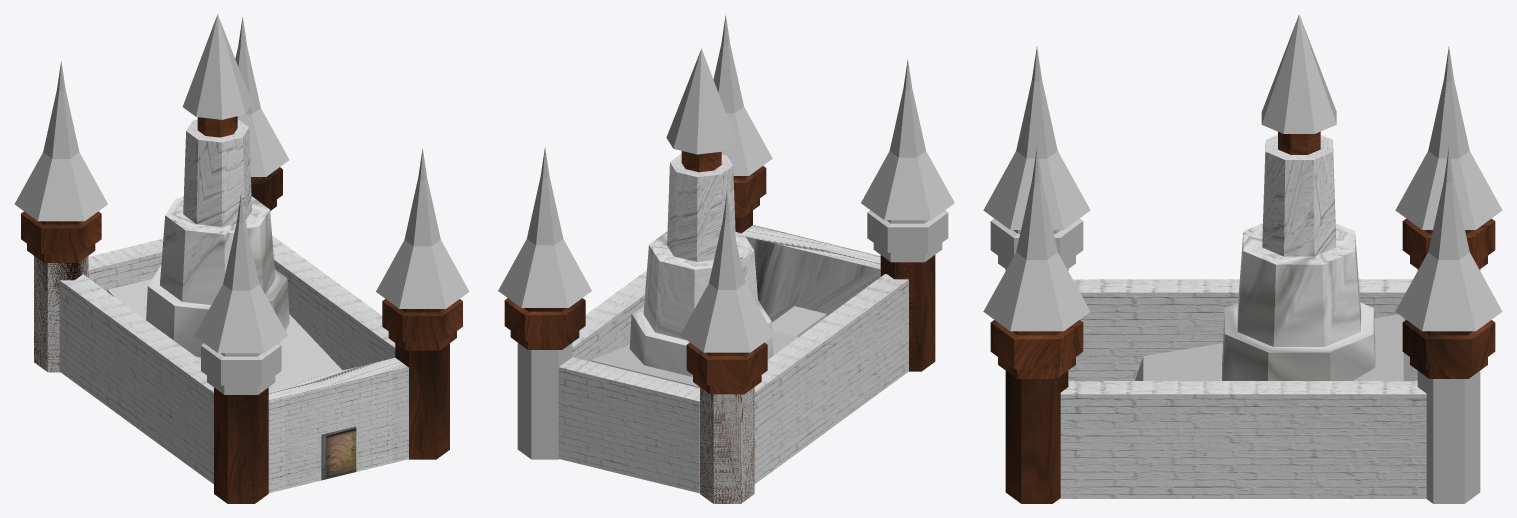
The model's file is ElfStronghold.fbx.
3 renders of one model, left to right at view 1: azimuth 30°, elevation 25°; view 2: azimuth 150°, elevation 25°; view 3: azimuth 270°, elevation 25°, orthographic. The views are drawn at different scales.
Parts seen in each view (by area): view 1: Cube.003, Cylinder.004, Cube, Cube.002, Cylinder.007, Cylinder.009, Cylinder.005, Cylinder, Cylinder.001, Cylinder.014, Cube.004, Cylinder.011 (+9 smaller); view 2: Cube.003, Cube.001, Cylinder.004, Cube, Cylinder.007, Cylinder.009, Cylinder.012, Cylinder.010, Cylinder.003, Cylinder.014, Cylinder.005, Cylinder (+9 smaller); view 3: Cube.002, Cylinder.004, Cube.003, Cylinder.012, Cylinder.005, Cylinder.001, Cylinder.009, Cylinder.007, Cylinder.003, Cylinder.014, Cube.004, Cylinder.013 (+4 smaller).
Part boxes in pixels (x1,y1,x2,y2): Cube.003: (59,274,213,484); Cylinder.004: (146,119,289,357); Cube: (268,357,408,493); Cube.002: (272,235,395,370); Cylinder.007: (194,193,287,353); Cylinder.009: (14,61,107,221); Cylinder.005: (376,149,469,308); Cylinder: (214,387,268,503); Cylinder.001: (395,343,449,459); Cylinder.014: (182,14,252,119); Cube.004: (107,279,342,388); Cylinder.011: (21,211,101,262); Cube.003: (754,274,908,483); Cube.001: (558,357,699,493); Cylinder.004: (629,154,773,376); Cube: (742,225,880,322); Cylinder.007: (861,59,954,220); Cylinder.009: (680,191,773,352); Cylinder.012: (498,147,591,307); Cylinder.010: (700,387,754,503); Cylinder.003: (517,343,572,459); Cylinder.014: (666,48,736,154); Cylinder.005: (713,14,772,175); Cylinder: (880,255,935,371); Cube.002: (1060,381,1426,498); Cylinder.004: (1222,135,1375,380); Cube.003: (1068,279,1417,380); Cylinder.012: (1395,148,1502,331); Cylinder.005: (983,148,1090,331); Cylinder.001: (1005,371,1068,503); Cylinder.009: (1395,46,1502,229); Cylinder.007: (983,46,1090,229); Cylinder.003: (1417,371,1480,503); Cylinder.014: (1261,14,1336,133); Cube.004: (1135,314,1415,380); Cylinder.013: (1402,320,1495,378).
Bounding box in the file's own units: 1067 × 1514 × 1665.
